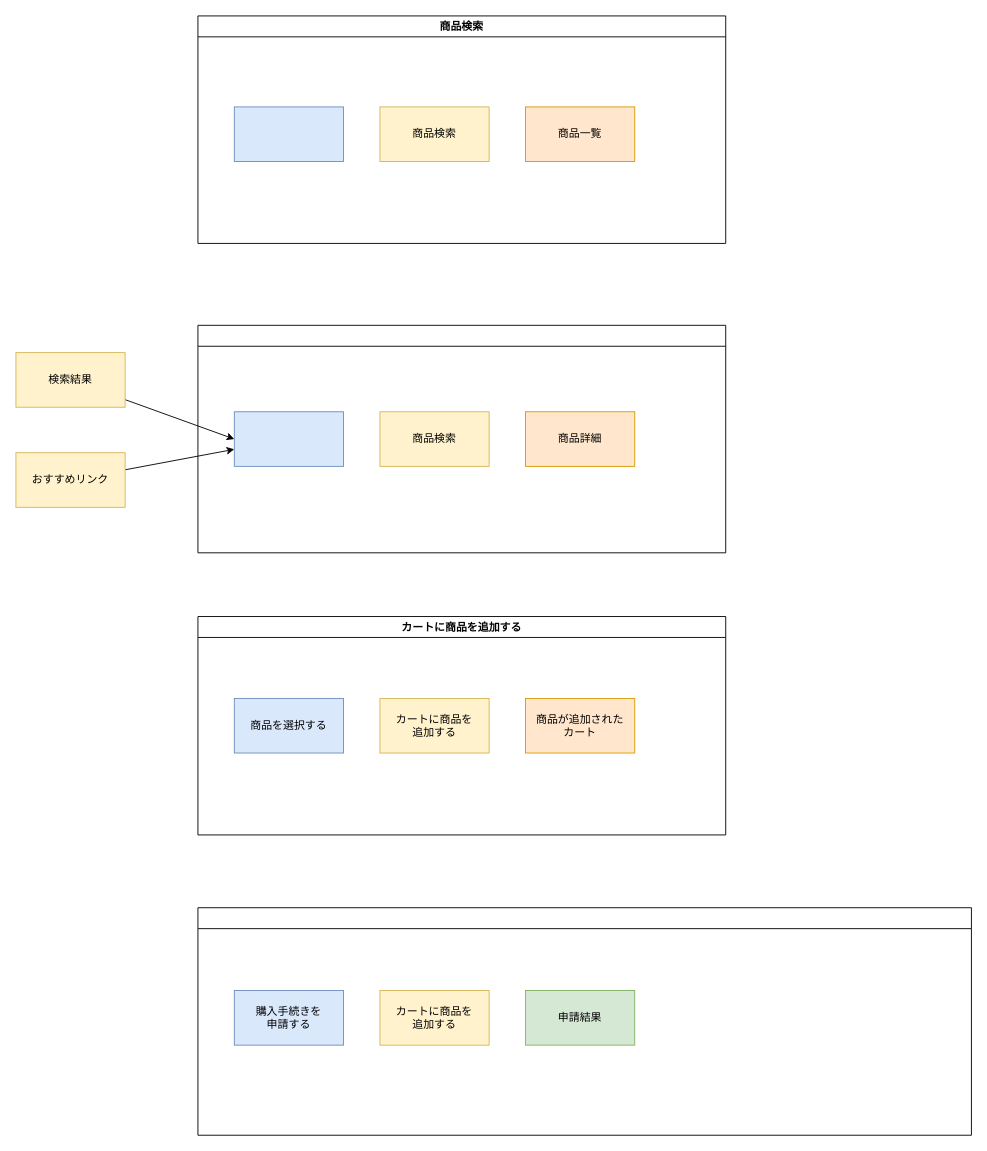
Image size: 987x1151. Some labels were removed from this diagram. Each missing label, with the box of its shape:
商品詳細を確認する: (197, 324, 726, 553)
検索条件: (233, 106, 344, 162)
購入手続きを行う: (197, 907, 971, 1135)
選択した 商品: (233, 411, 344, 466)
